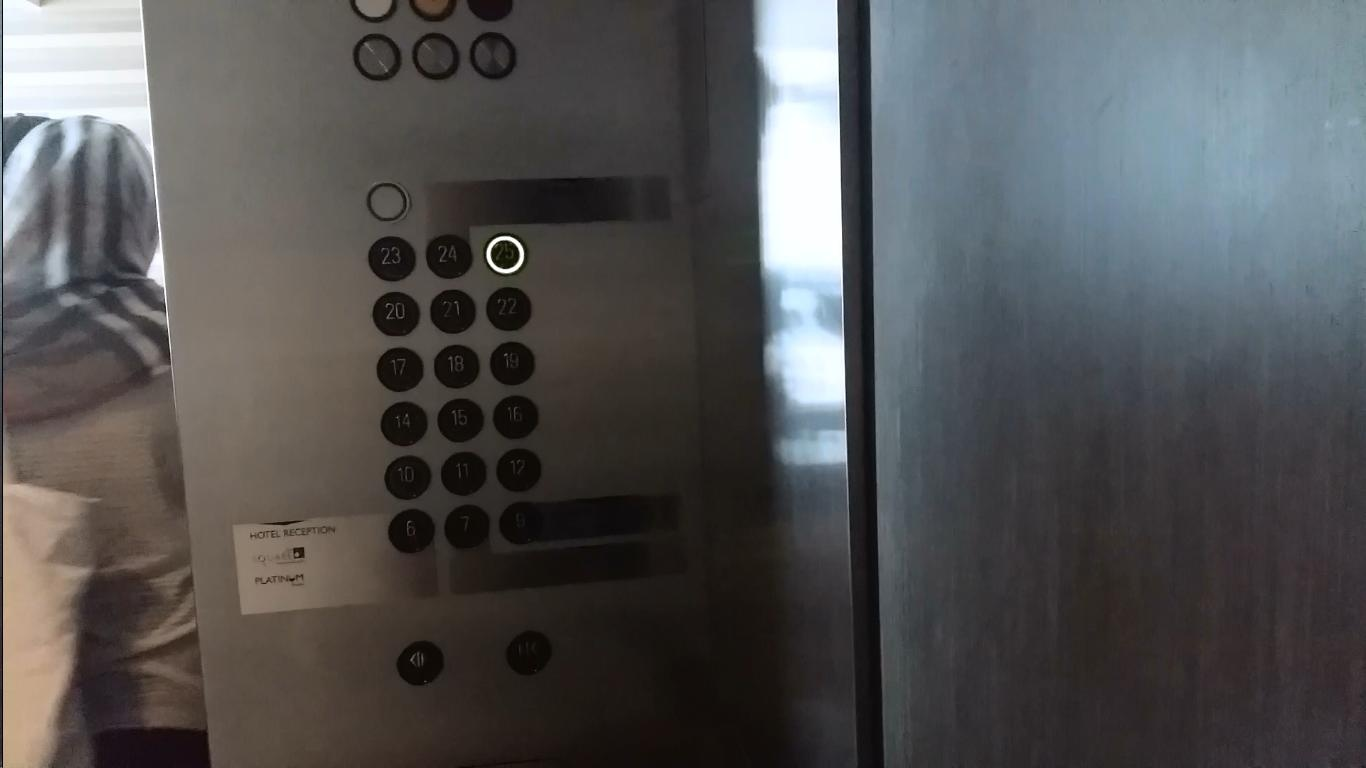10: (381, 453, 434, 504)
11: (437, 448, 491, 499)
12: (494, 447, 545, 497)
14: (377, 399, 431, 451)
15: (433, 394, 486, 445)
16: (490, 392, 542, 443)
17: (373, 344, 428, 395)
18: (430, 342, 482, 392)
19: (486, 339, 538, 389)
20: (370, 289, 421, 340)
21: (427, 287, 479, 337)
22: (482, 282, 535, 333)
23: (365, 233, 418, 284)
24: (422, 229, 476, 282)
25: (480, 230, 531, 281)
6: (383, 506, 436, 558)
7: (440, 500, 493, 553)
9: (494, 501, 545, 546)
close: (503, 627, 556, 678)
empty: (350, 29, 403, 81), (408, 30, 461, 81), (467, 29, 520, 80), (361, 177, 412, 227)
open: (393, 638, 448, 690)
